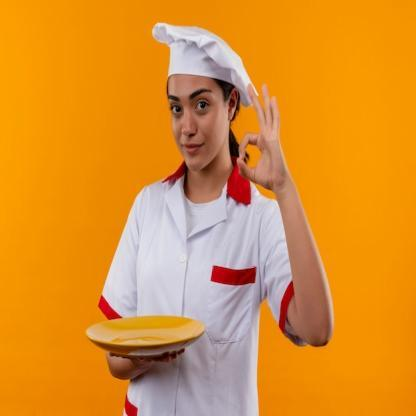ok: (236, 78, 290, 194)
